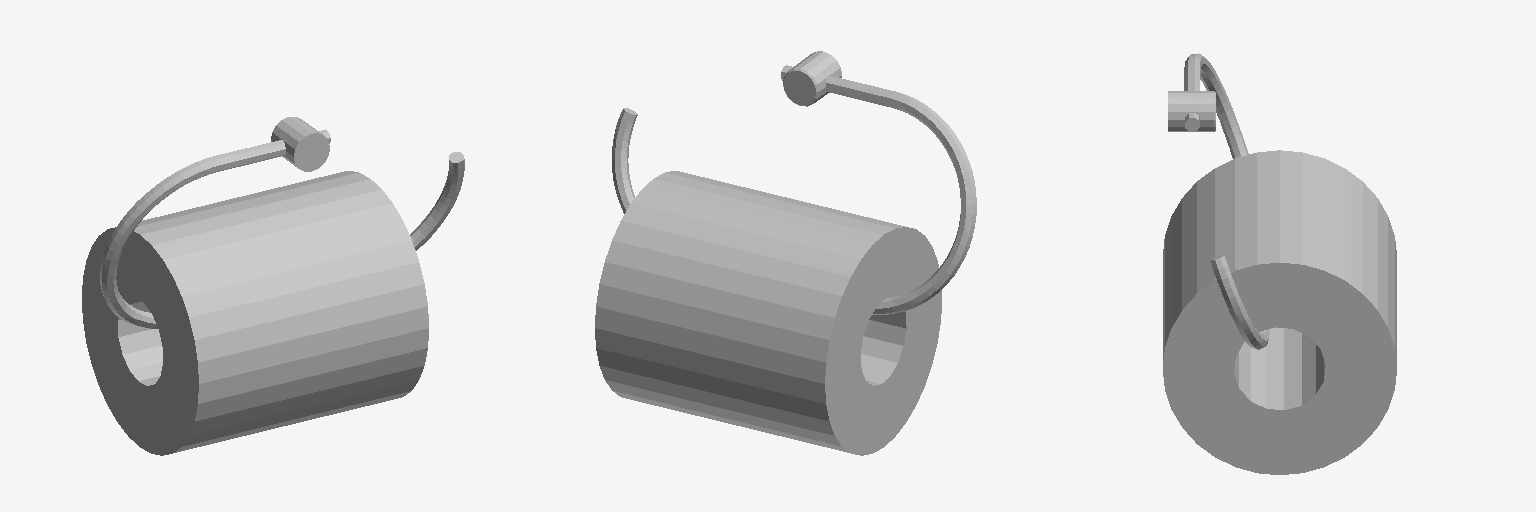
Rendered from ToiletPaper.obj.
The picture shows the model from 3 angles: view 1: azimuth 30°, elevation 25°; view 2: azimuth 150°, elevation 25°; view 3: azimuth 270°, elevation 25°; orthographic projection.
Parts seen in each view (by area): view 1: SM_ToiletPaperHolder; view 2: SM_ToiletPaperHolder; view 3: SM_ToiletPaperHolder.
Part boxes in pixels (left/top/right/bottom): SM_ToiletPaperHolder: left=82, top=117, right=464, bottom=455; SM_ToiletPaperHolder: left=595, top=51, right=976, bottom=455; SM_ToiletPaperHolder: left=1163, top=53, right=1396, bottom=474.
Bounding box in the file's own units: 0.1978 × 0.1718 × 0.1117.